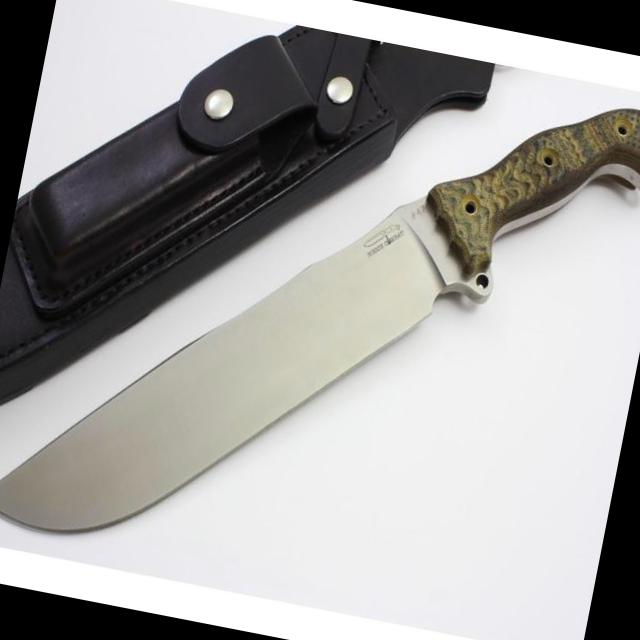Knife: (0, 109, 640, 532)
